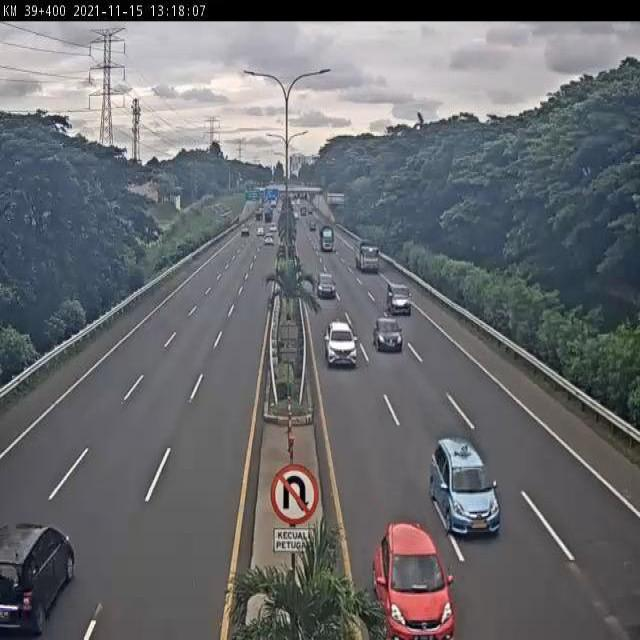car: (370, 518, 456, 640), (0, 522, 75, 634), (430, 435, 503, 536), (322, 319, 360, 369), (373, 315, 404, 353), (387, 280, 414, 316), (315, 271, 337, 300)
